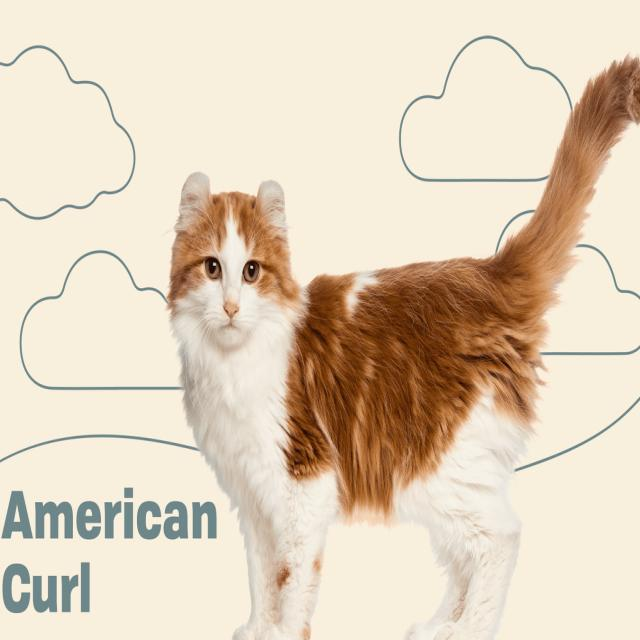American Curl: (164, 50, 640, 640)
